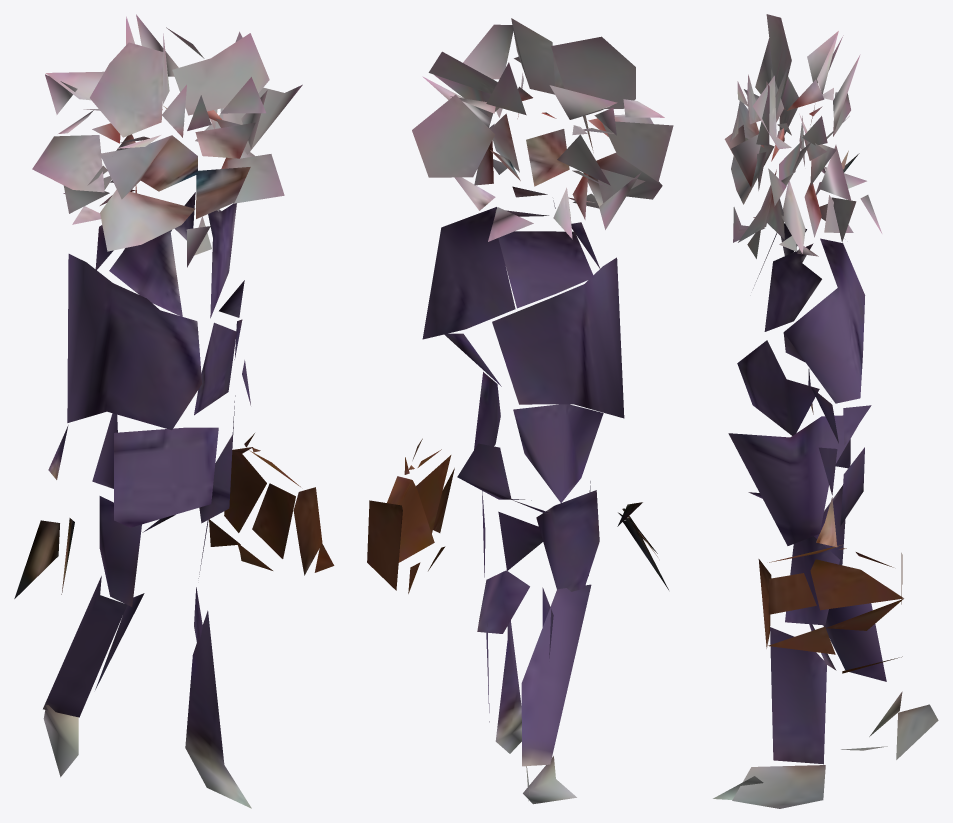
The model's file is crowd_workgirl_lite.glb.
3 renders of one model, left to right at view 1: azimuth 30°, elevation 25°; view 2: azimuth 150°, elevation 25°; view 3: azimuth 270°, elevation 25°, orthographic. The views are drawn at different scales.
Visible parts, largest first — view 1: tripo_node_4dcd1692-ba07-4971-a005-472ad7834de4; view 2: tripo_node_4dcd1692-ba07-4971-a005-472ad7834de4; view 3: tripo_node_4dcd1692-ba07-4971-a005-472ad7834de4.
Part boxes in pixels (x1,y1,x2,y2): tripo_node_4dcd1692-ba07-4971-a005-472ad7834de4: (14,14,334,808); tripo_node_4dcd1692-ba07-4971-a005-472ad7834de4: (367,18,673,804); tripo_node_4dcd1692-ba07-4971-a005-472ad7834de4: (713,14,938,808).
Size of the model in its own units: 0.7395 by 1.84 by 0.4981.
Materials: 1 (1 with a texture image).
